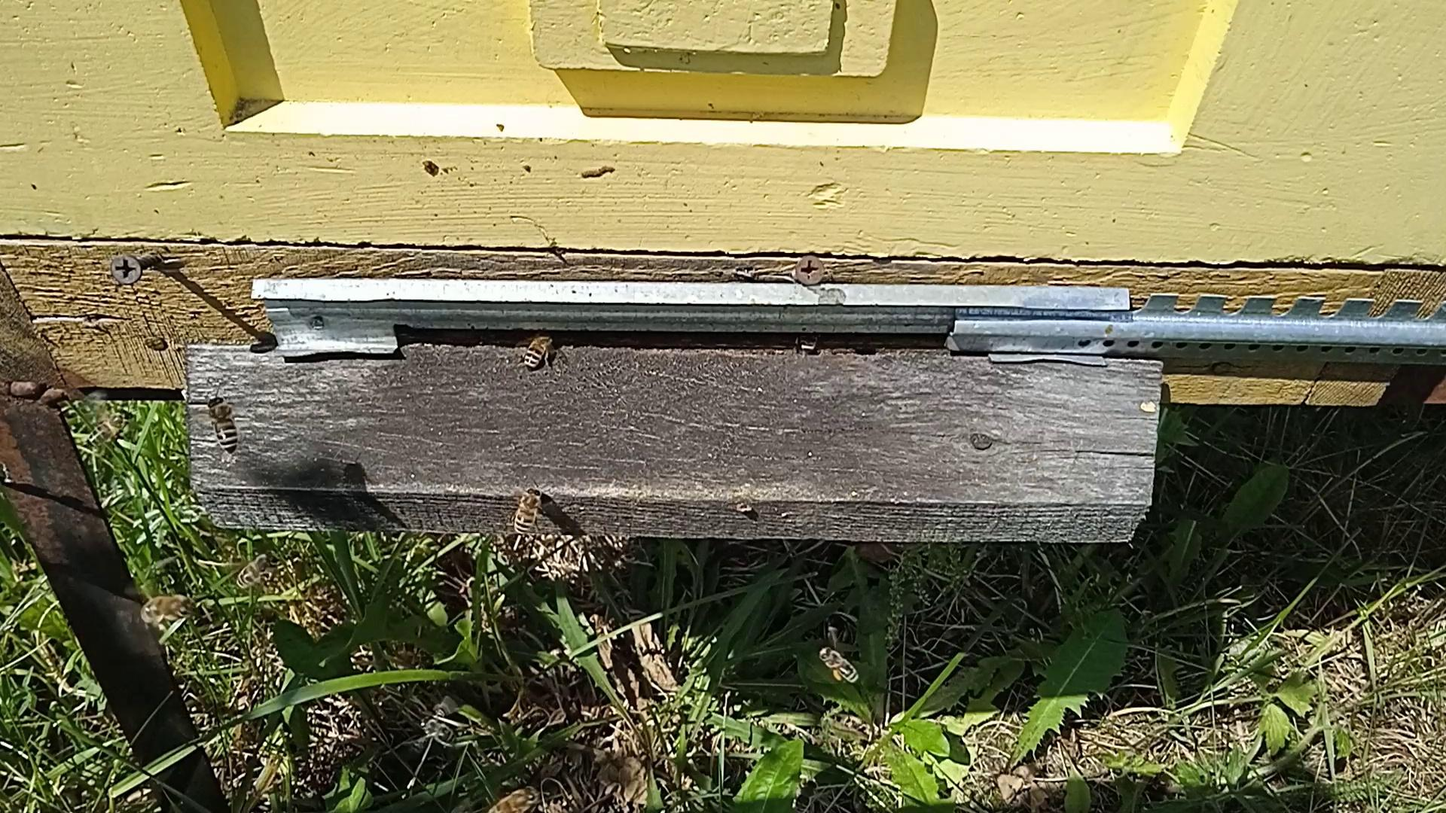worker-bee: (138, 594, 200, 632), (203, 395, 239, 454), (481, 786, 543, 813), (88, 409, 133, 446), (817, 647, 860, 684), (519, 331, 558, 370), (513, 486, 544, 534), (235, 553, 277, 588), (420, 716, 454, 740), (793, 332, 822, 355)
